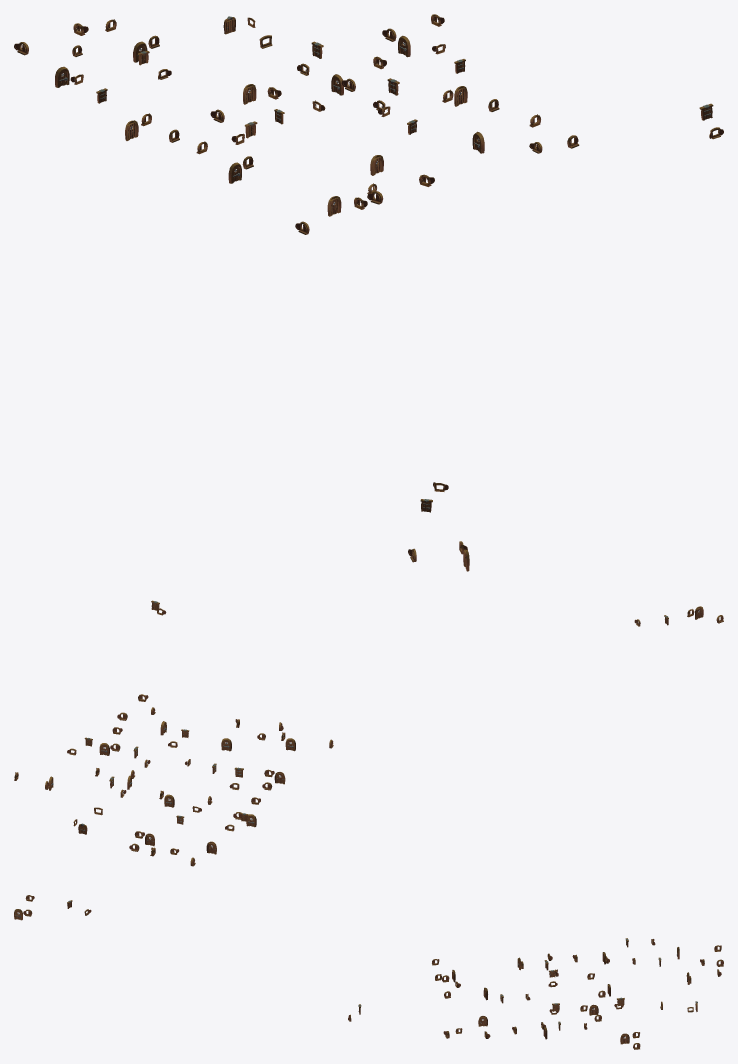
Rendered from WindowandDoorsExports.FBX.
3 renders of one model, top to bottom at view 1: azimuth 30°, elevation 25°; view 2: azimuth 150°, elevation 25°; view 3: azimuth 270°, elevation 25°, orthographic. The views are drawn at different scales.
Visible parts, largest first — view 1: polySurface163; view 2: polySurface163; view 3: polySurface163.
Part boxes in pixels (x1=…): polySurface163: x1=14, y1=14, x2=723, y2=571; polySurface163: x1=14, y1=600, x2=723, y2=866; polySurface163: x1=14, y1=895, x2=723, y2=1049.
Size of the model in its own units: 235 by 42.65 by 426.
